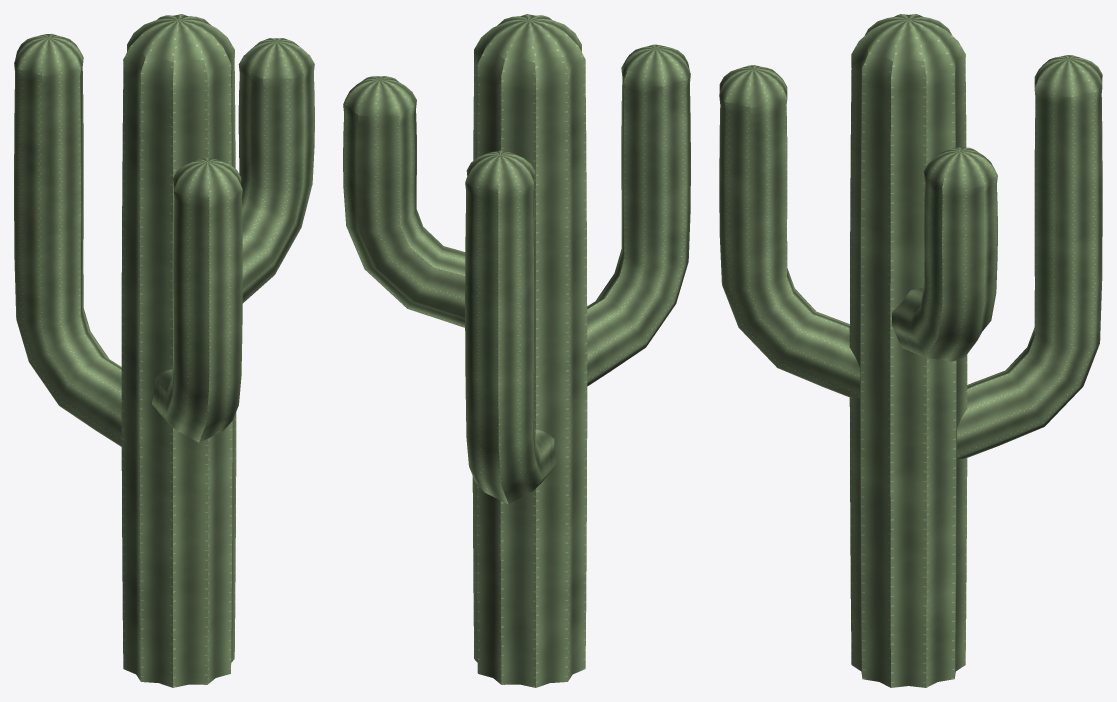
Rendered from SM_Desert_Saguaro_B.glb.
3 views of the same model, side by side, from view 1: azimuth 30°, elevation 25°; view 2: azimuth 150°, elevation 25°; view 3: azimuth 270°, elevation 25° (orthographic).
Visible parts, largest first — view 1: SM_Desert_Saguaro_B; view 2: SM_Desert_Saguaro_B; view 3: SM_Desert_Saguaro_B.
Part boxes in pixels (x1,y1,x2,y2): SM_Desert_Saguaro_B: [14, 14, 314, 687]; SM_Desert_Saguaro_B: [343, 14, 690, 687]; SM_Desert_Saguaro_B: [719, 14, 1102, 687].
Size of the model in its own units: 1.08 by 2.8 by 1.51.
Materials: 1 (1 with a texture image).
